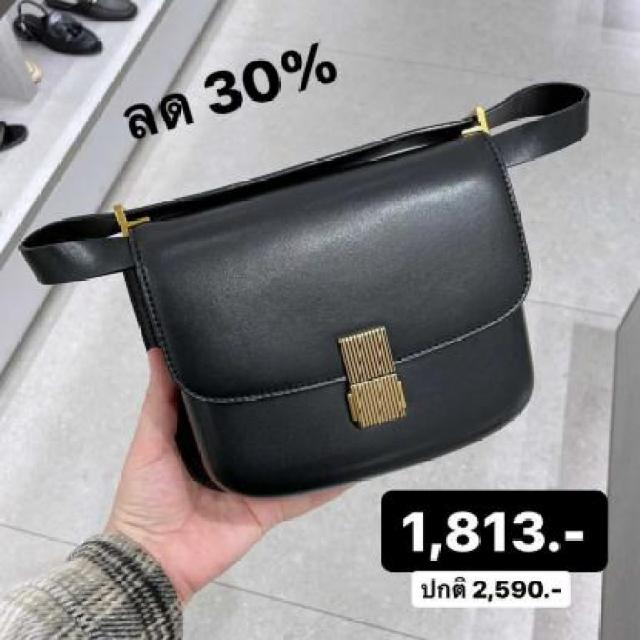Bag: (9, 67, 613, 531)
